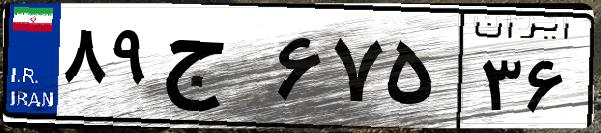3: (475, 38, 525, 113)
5: (385, 28, 445, 110)
6: (270, 28, 330, 110), (525, 38, 570, 115)
7: (330, 28, 385, 110)
8: (57, 26, 110, 100)
9: (110, 28, 158, 98)
ج: (158, 20, 270, 120)
